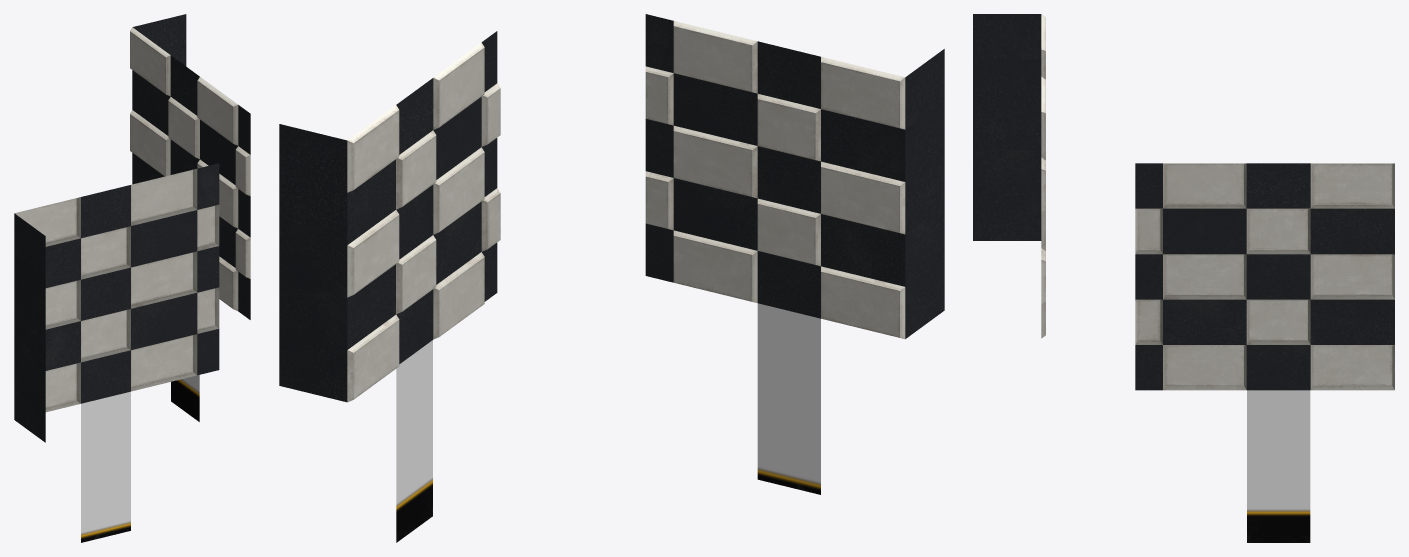
The model's file is Outfits.002.fbx.
3 views of the same model, side by side, from view 1: azimuth 30°, elevation 25°; view 2: azimuth 150°, elevation 25°; view 3: azimuth 270°, elevation 25° (orthographic). The views are drawn at different scales.
Visible parts, largest first — view 1: Changing Rooms; view 2: Changing Rooms; view 3: Changing Rooms.
Boxes of the visible parts, x1,y1,x2,y2 form: Changing Rooms: (14, 14, 250, 542); Changing Rooms: (279, 14, 944, 542); Changing Rooms: (973, 14, 1394, 542).
Bounding box in the file's own units: 10 × 10 × 9.93.
